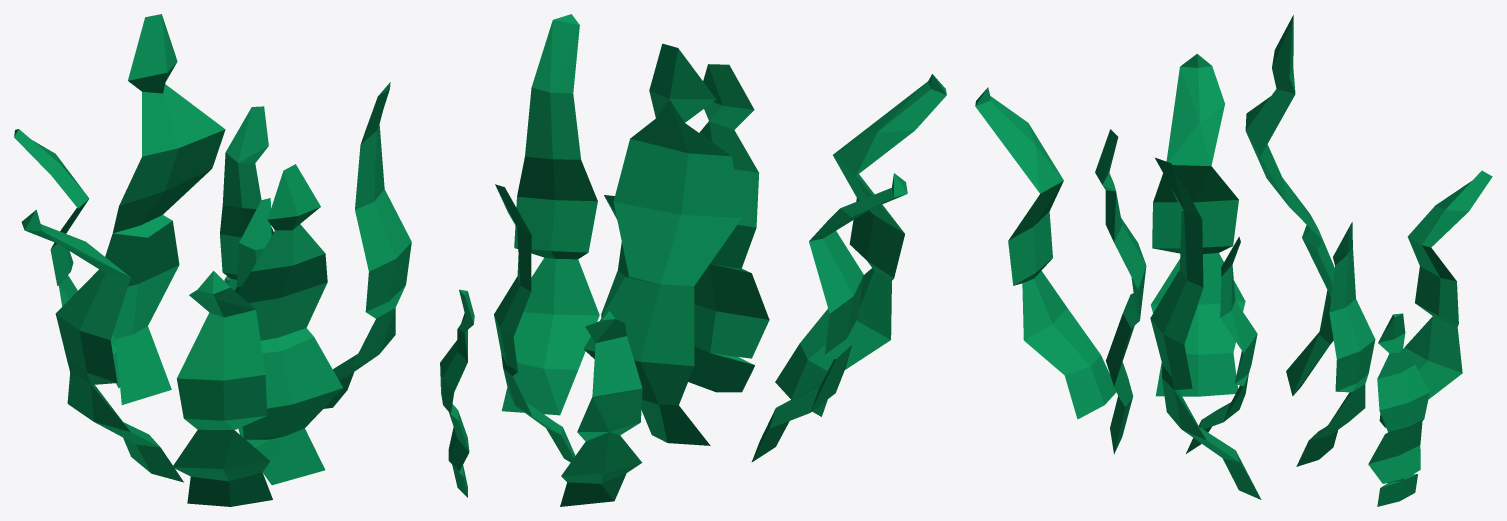
Rendered from Seeweed_2.fbx.
The picture shows the model from 3 angles, left to right: view 1: azimuth 30°, elevation 25°; view 2: azimuth 150°, elevation 25°; view 3: azimuth 270°, elevation 25°; orthographic projection. The views are drawn at different scales.
Visible parts, largest first — view 1: Seeweed1_mesh; view 2: Seeweed1_mesh; view 3: Seeweed1_mesh.
Part boxes in pixels (box(x1,y1,x2,y2)): Seeweed1_mesh: box(14, 14, 411, 506); Seeweed1_mesh: box(440, 14, 946, 506); Seeweed1_mesh: box(975, 15, 1492, 506).
Size of the model in its own units: 140 by 148 by 168.
